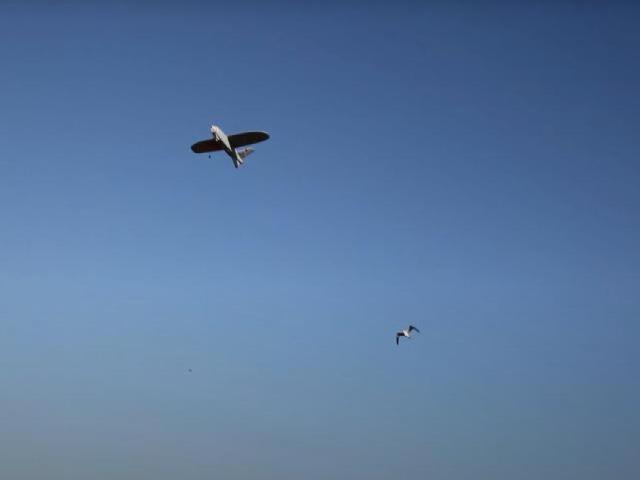iha: (181, 117, 269, 171)
